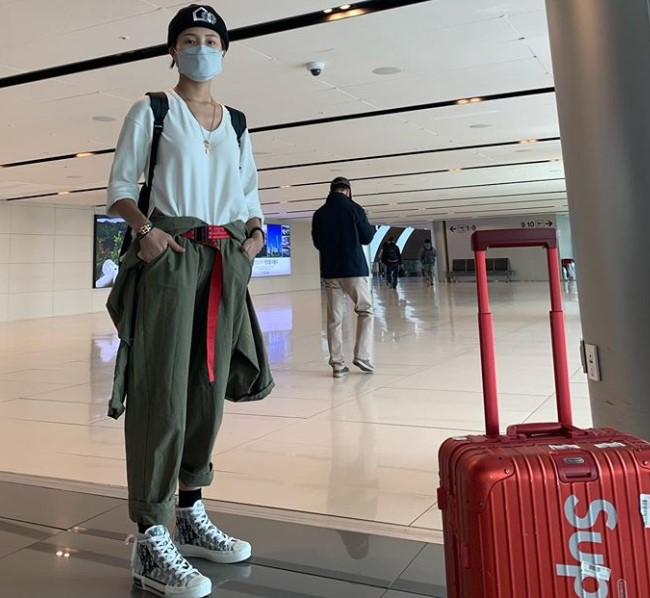face_with_mask: (167, 5, 228, 81)
